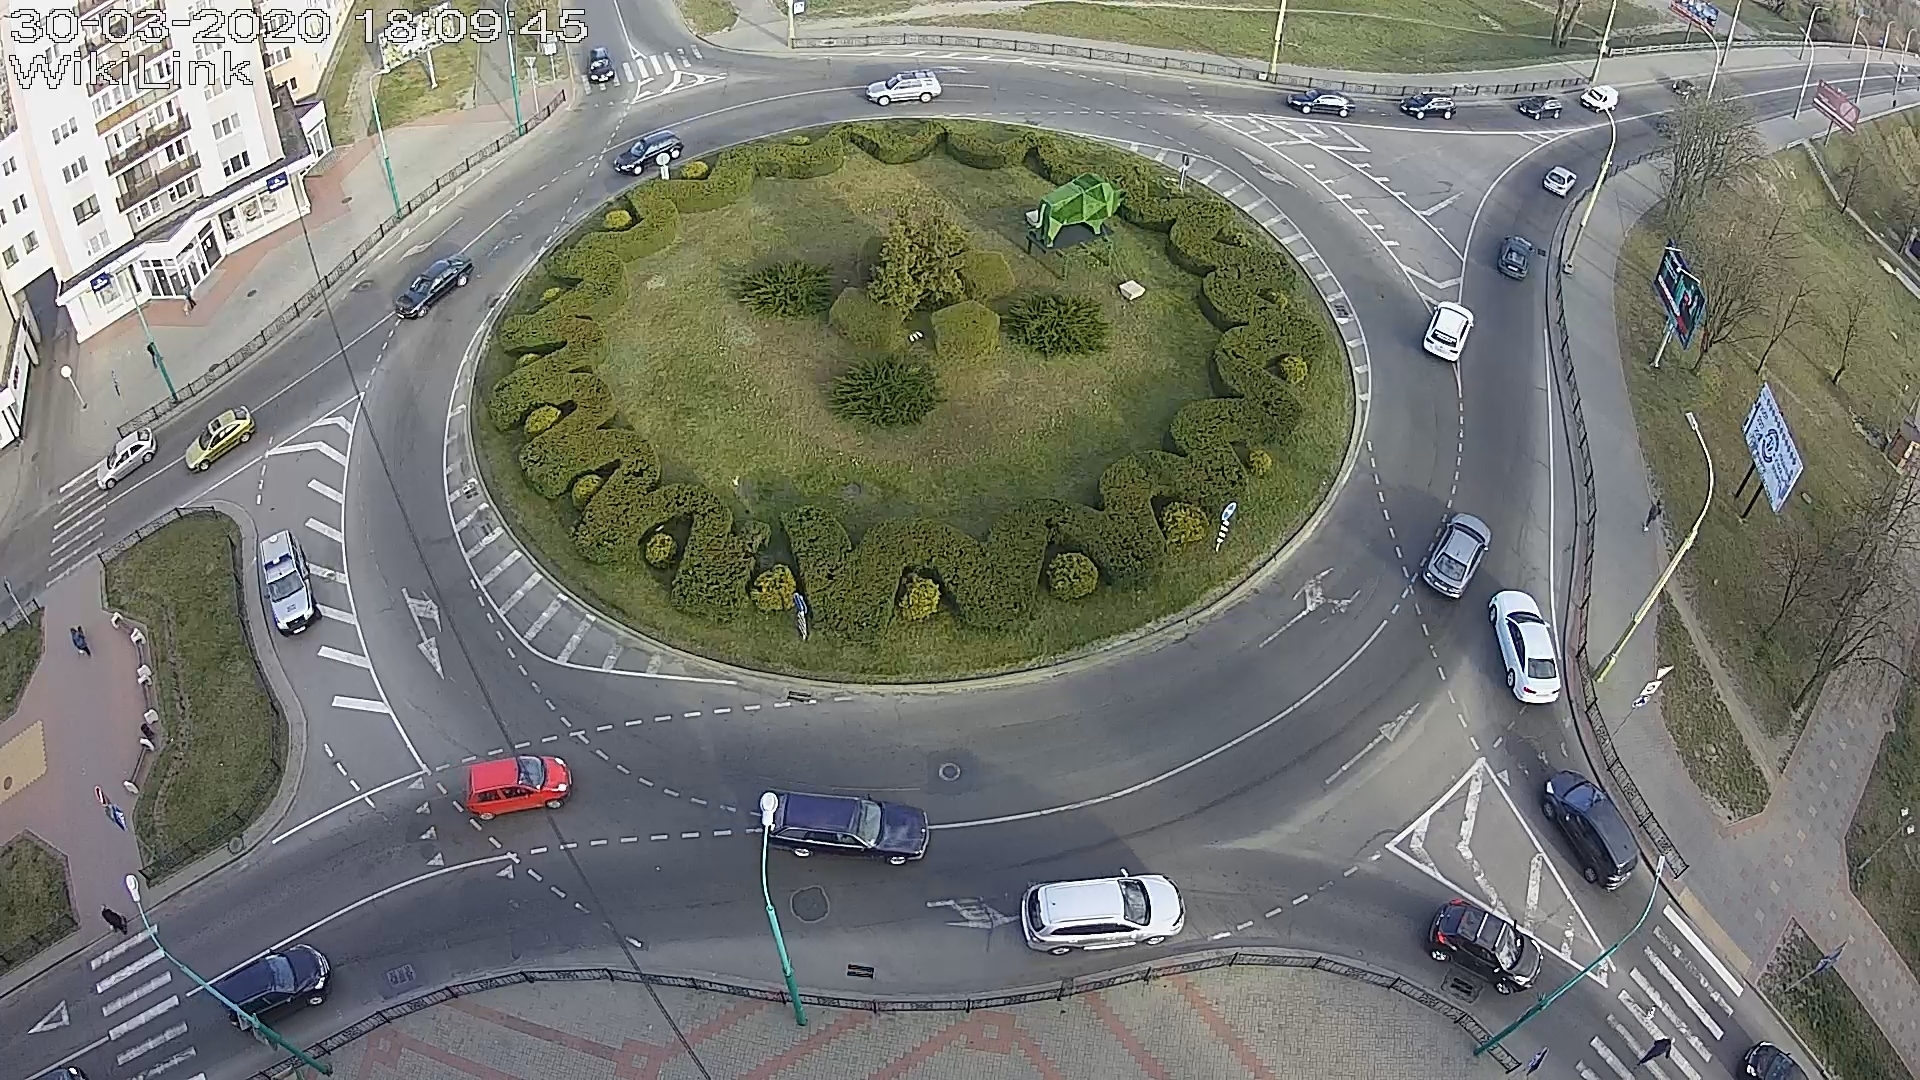car: (1021, 866, 1185, 956), (1542, 769, 1639, 893), (767, 793, 931, 866), (1425, 899, 1544, 996), (215, 943, 332, 1036), (1489, 589, 1561, 704), (465, 756, 572, 822), (258, 527, 322, 637), (1422, 512, 1491, 599), (396, 255, 473, 320), (185, 405, 256, 473), (96, 427, 157, 491), (1423, 301, 1476, 361), (613, 131, 684, 175), (866, 69, 942, 107), (1286, 88, 1356, 117), (1497, 233, 1535, 281), (1399, 92, 1457, 120), (1516, 95, 1563, 120), (1543, 165, 1578, 196), (1581, 84, 1619, 113), (588, 45, 615, 83)
